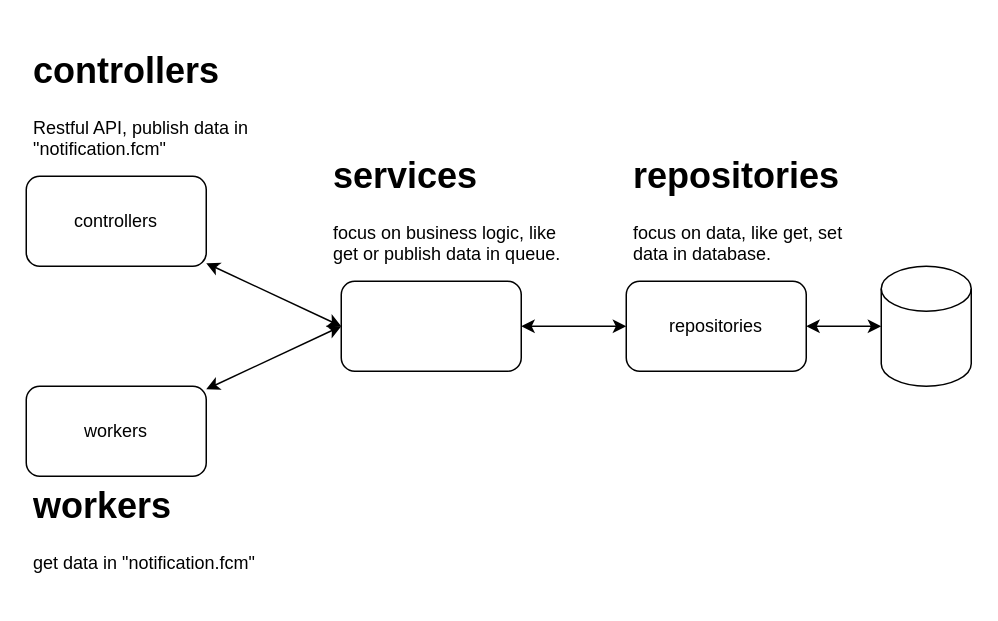
The diagram is 998 pixels wide and 621 high, and some of its shapes have lost their labels. The shapes that lost their labels are listed below. From the top down, each one's centre as x and y in pixels, then its label:
(430,325): services
(925,325): database
